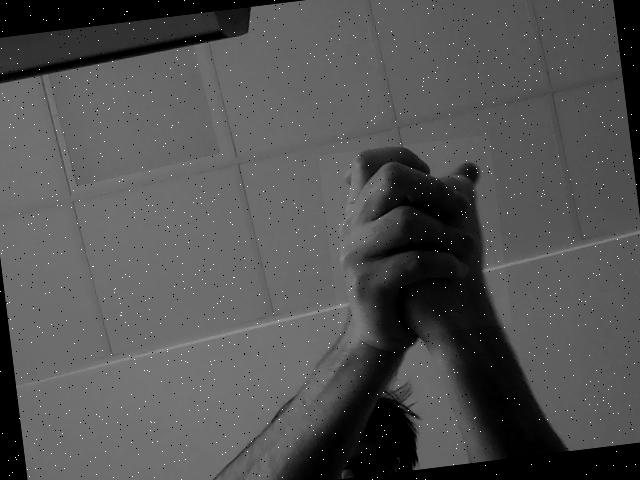friend: (318, 135, 511, 344)
